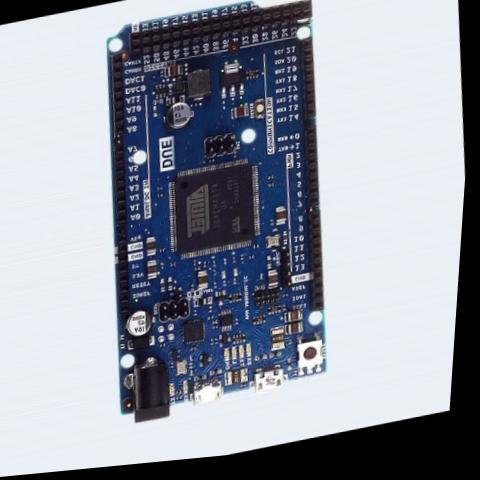Arduino-Due: (65, 0, 366, 441)
